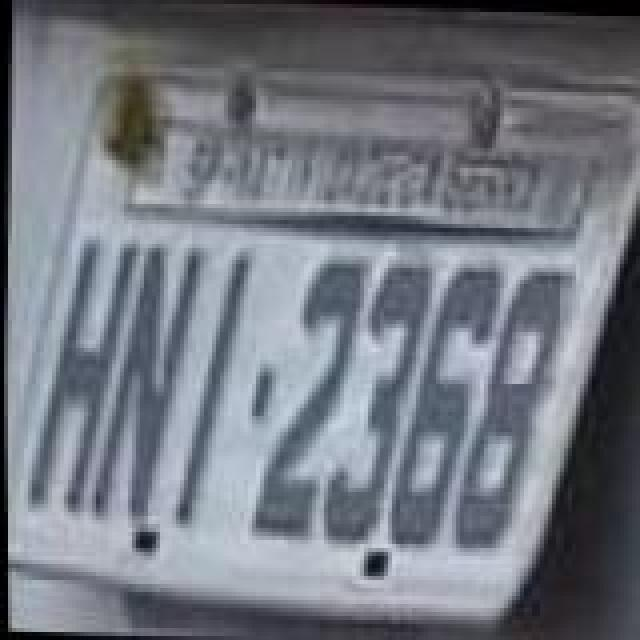1: (170, 250, 250, 530)
2: (244, 248, 368, 540)
3: (316, 264, 440, 544)
6: (380, 260, 504, 552)
8: (444, 268, 568, 548)
H: (20, 232, 144, 512)
N: (84, 232, 208, 524)
